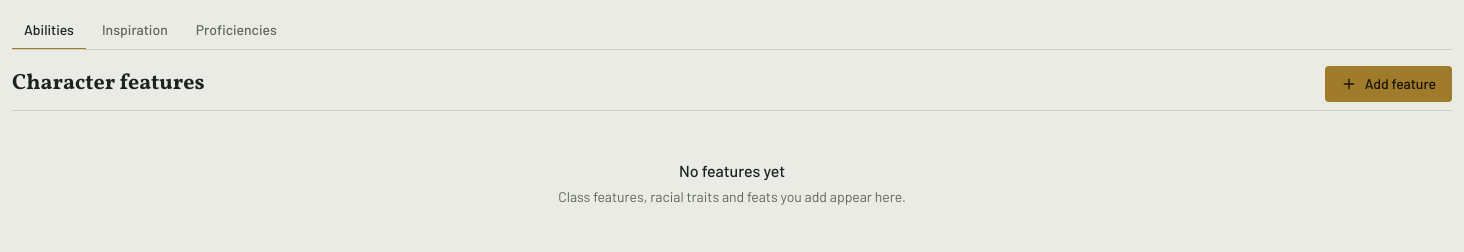
Test: places Tools and Languages side by side with Weapon proficiencies below
This screenshot has width=1464, height=252.
Click the tab "Proficiencies".
click(236, 31)  # box [184,12,289,50]
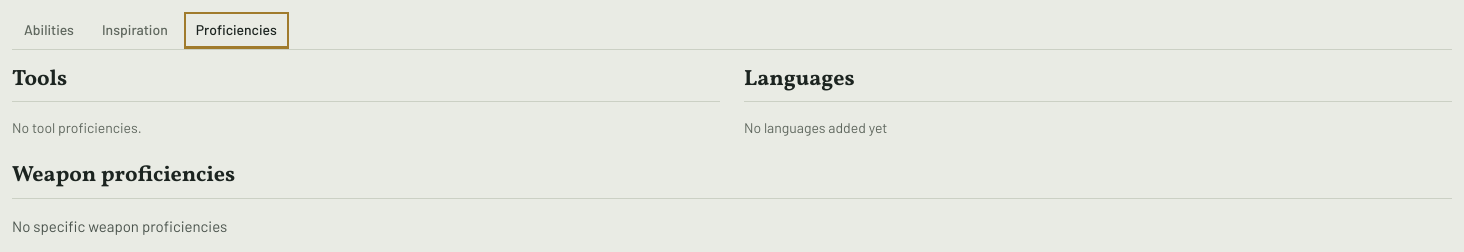
Check: the heading "Weapon proficiencies" is shown, box [12,162,235,190]
